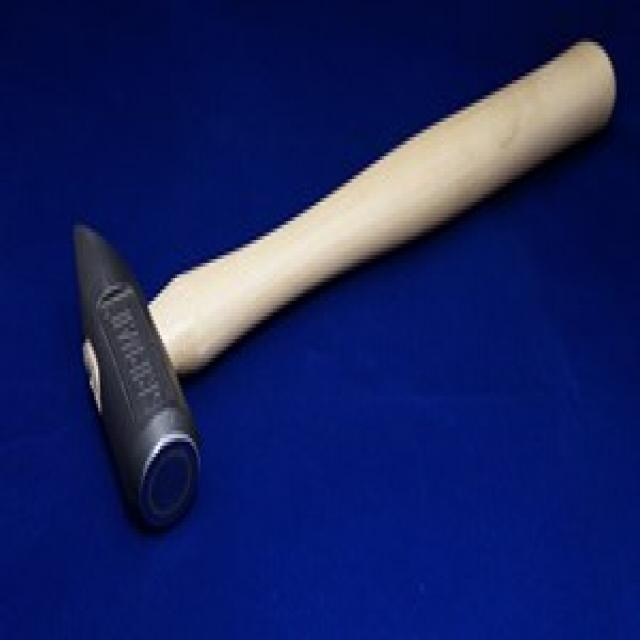hammer: (67, 32, 619, 538)
